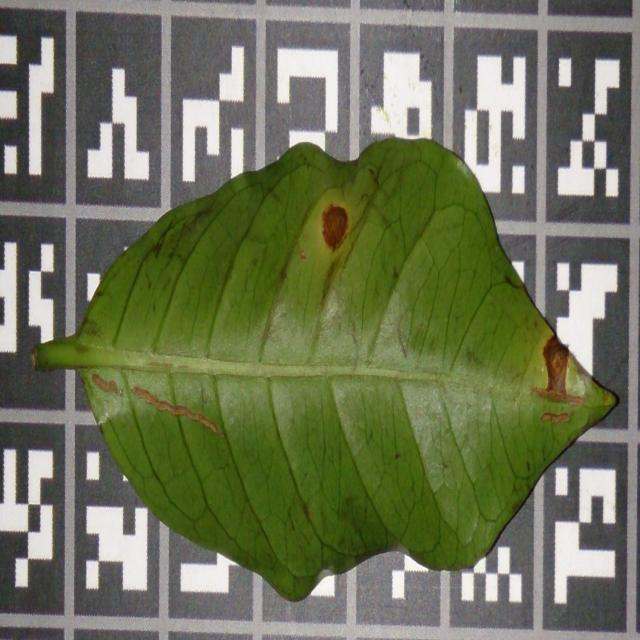Enfermedad-Mancha-de-hierro: (47, 137, 618, 604)
